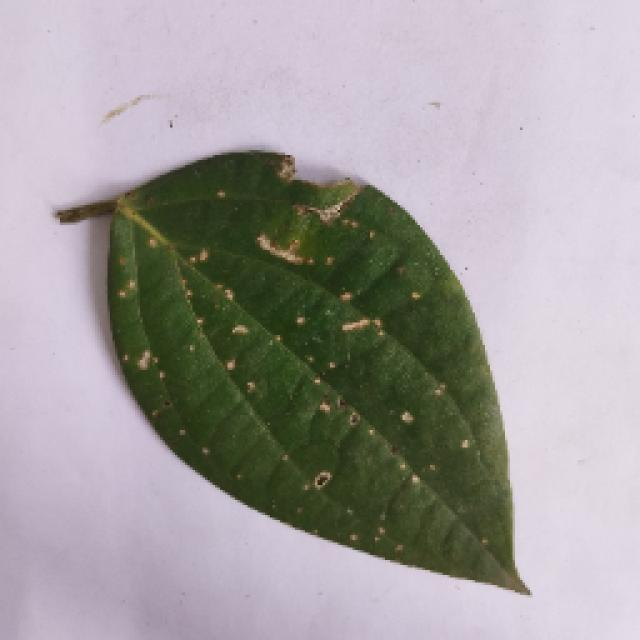pollu-disease: (50, 140, 532, 595)
